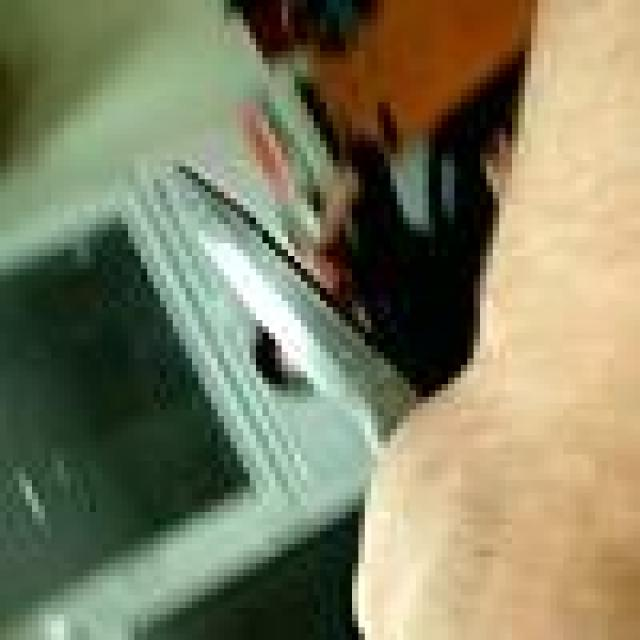knife: (155, 155, 429, 450)
